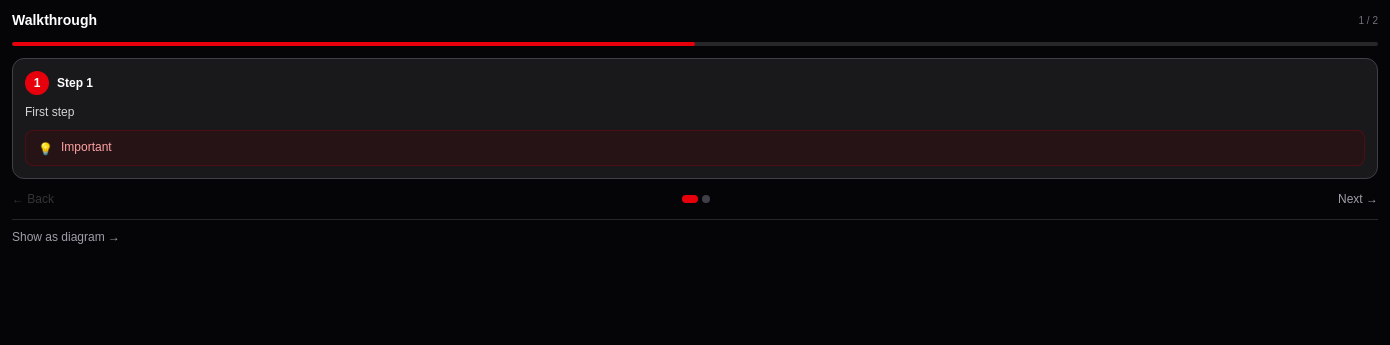
it: Explainer Feedback Components › WalkthroughExplainer Feedback › should show feedback buttons only on last step
The width and height of the screenshot is (1390, 345).
Expected: the text "Did this help?" is not shown
Note: Navigate to last step
Click the button "Next →": {"x": 1358, "y": 199} [1338,191,1378,207]
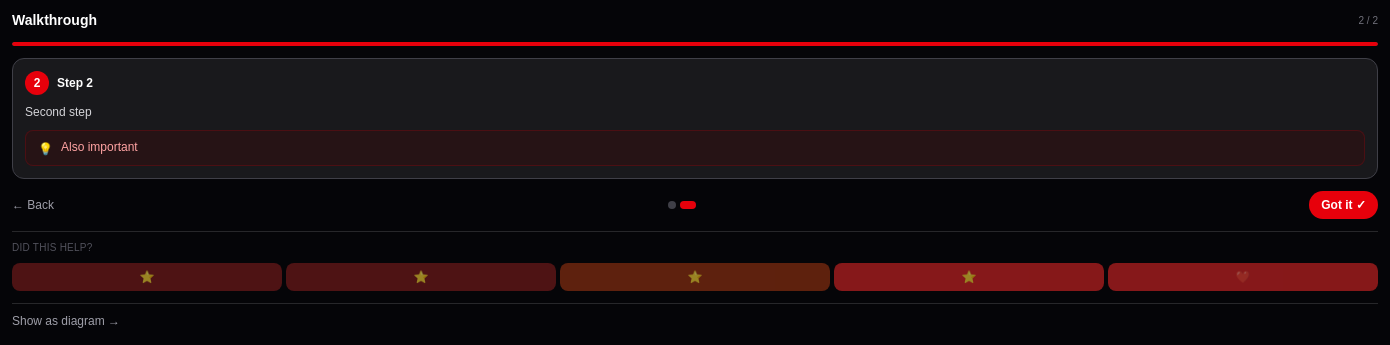
Expected: the text "Did this help?" is shown, [12,242,93,253]
